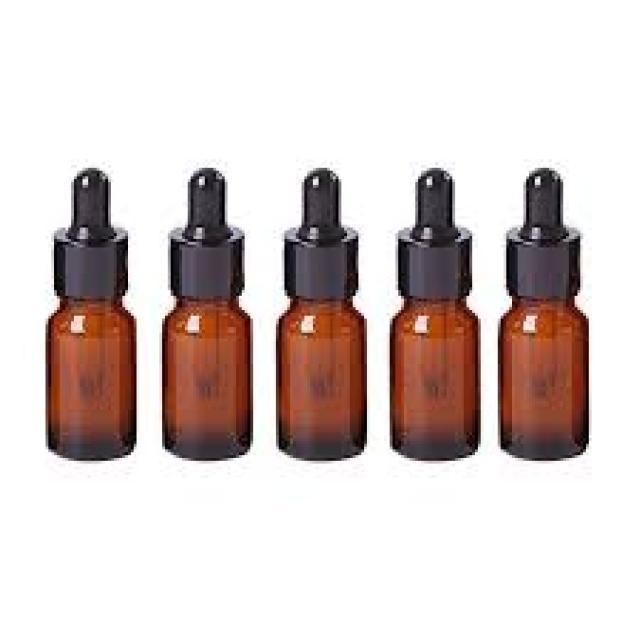Glass: (388, 302, 482, 464), (499, 300, 594, 460), (161, 298, 254, 460), (276, 297, 366, 461), (44, 298, 134, 460)
